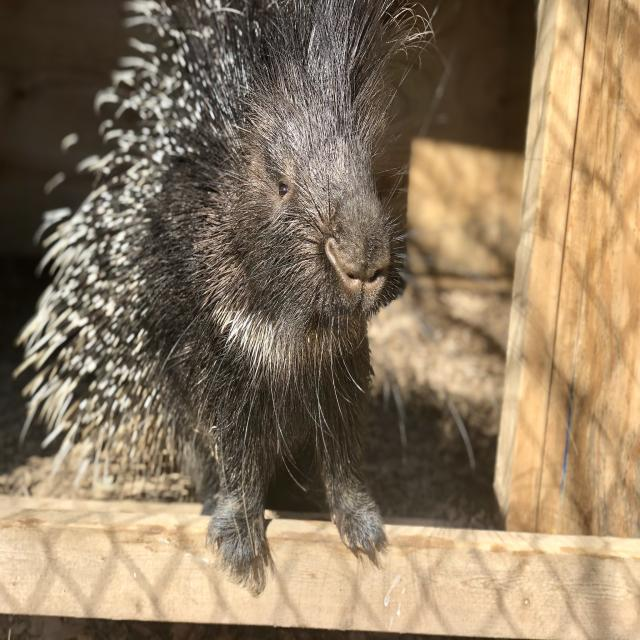Porcupine: (20, 0, 422, 564)
